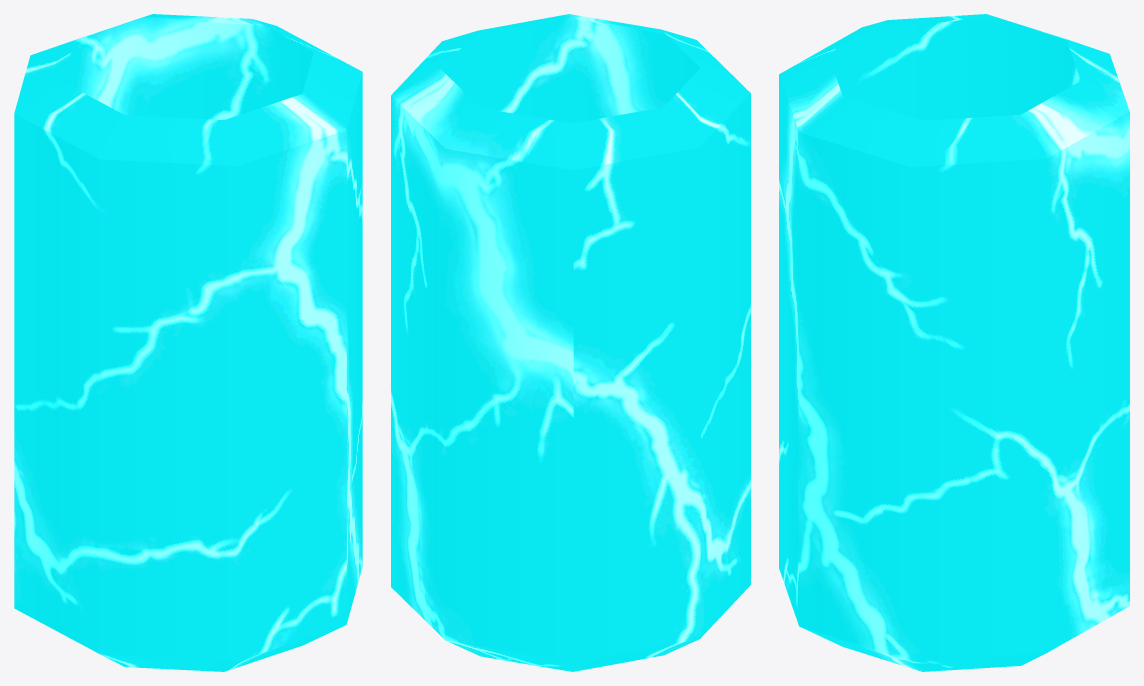
The model's file is finalBoss-reactors2Lightning.glb.
3 renders of one model, left to right at view 1: azimuth 30°, elevation 25°; view 2: azimuth 150°, elevation 25°; view 3: azimuth 270°, elevation 25°, orthographic.
Parts seen in each view (by area): view 1: reactor2Lightning; view 2: reactor2Lightning; view 3: reactor2Lightning.
Boxes of the visible parts, x1,y1,x2,y2 form: reactor2Lightning: [14, 14, 362, 671]; reactor2Lightning: [391, 14, 750, 671]; reactor2Lightning: [779, 14, 1129, 671].
Size of the model in its own units: 0.585 by 1.01 by 0.585.
1 material, 1 textured.
